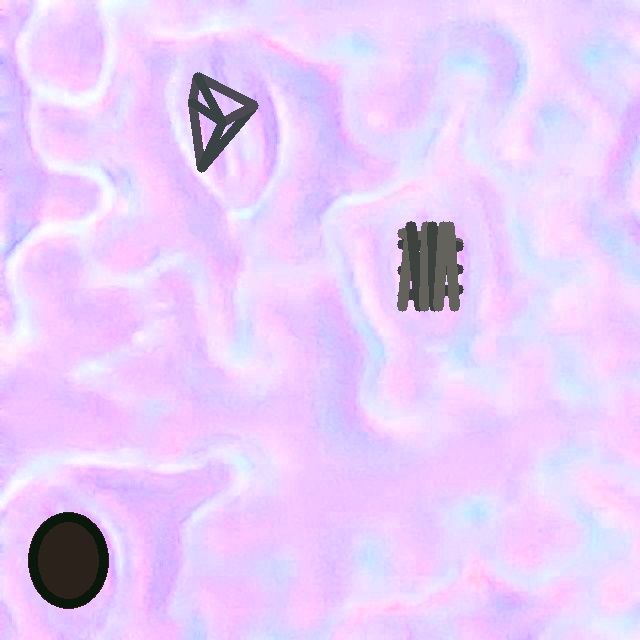open: (27, 511, 108, 608), (188, 73, 257, 172), (397, 221, 463, 311)
